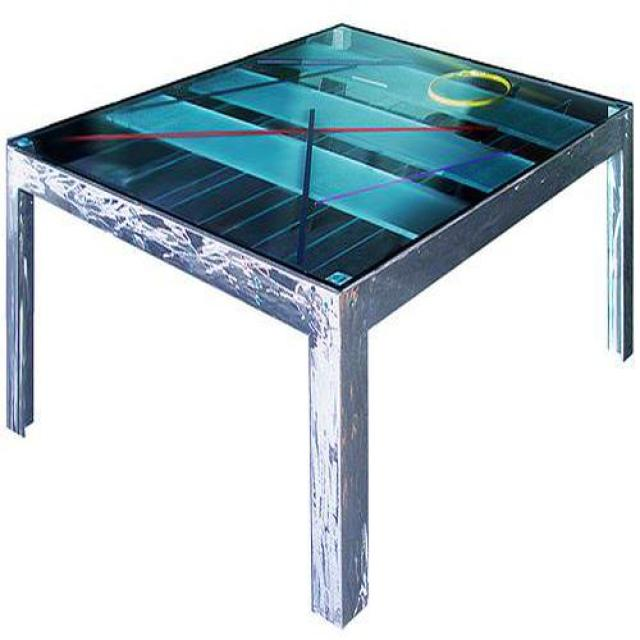table: (5, 24, 640, 630)
